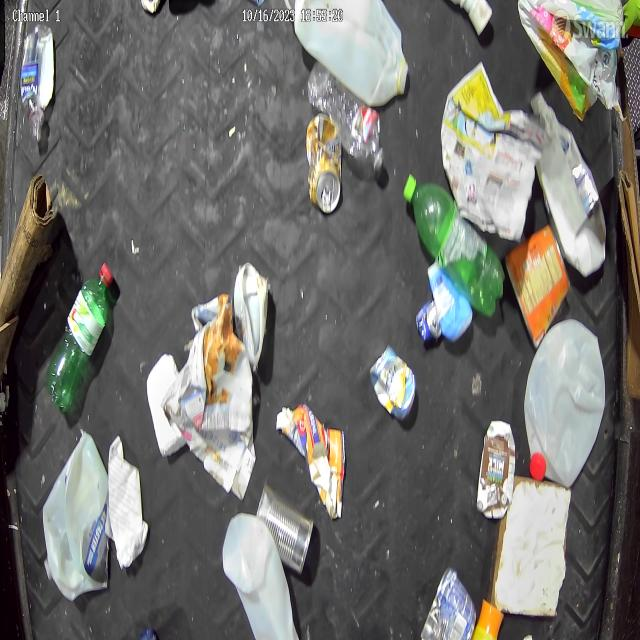can: (506, 223, 571, 351), (256, 482, 314, 576), (421, 566, 476, 640), (307, 112, 342, 214), (369, 345, 416, 420), (416, 301, 442, 344)
milk_jug: (530, 91, 606, 278), (524, 318, 606, 488), (294, 0, 408, 107), (42, 432, 108, 603), (222, 514, 300, 640), (477, 419, 516, 519), (234, 262, 269, 370)
plastic_bottle: (402, 172, 506, 319), (44, 261, 114, 410), (307, 61, 384, 172), (21, 25, 55, 140)
